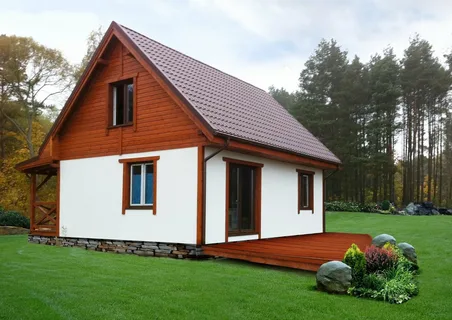private_hause: (52, 45, 339, 243)
